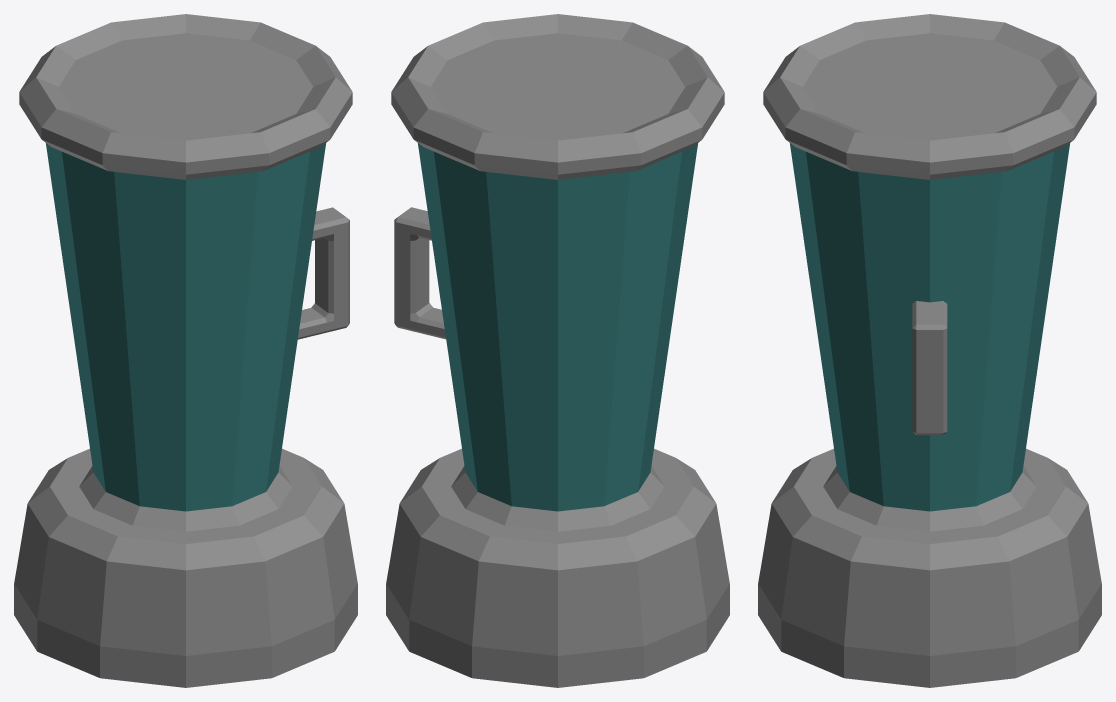
File: blender.gltf
3 views of the same model, side by side, from view 1: azimuth 30°, elevation 25°; view 2: azimuth 150°, elevation 25°; view 3: azimuth 270°, elevation 25° (orthographic).
Parts seen in each view (by area): view 1: Blender; view 2: Blender; view 3: Blender.
Part boxes in pixels (x1,y1,x2,y2): Blender: (14,14,357,687); Blender: (386,14,729,687); Blender: (758,14,1101,687).
Bounding box in the file's own units: 1.49 × 2.51 × 1.45.
